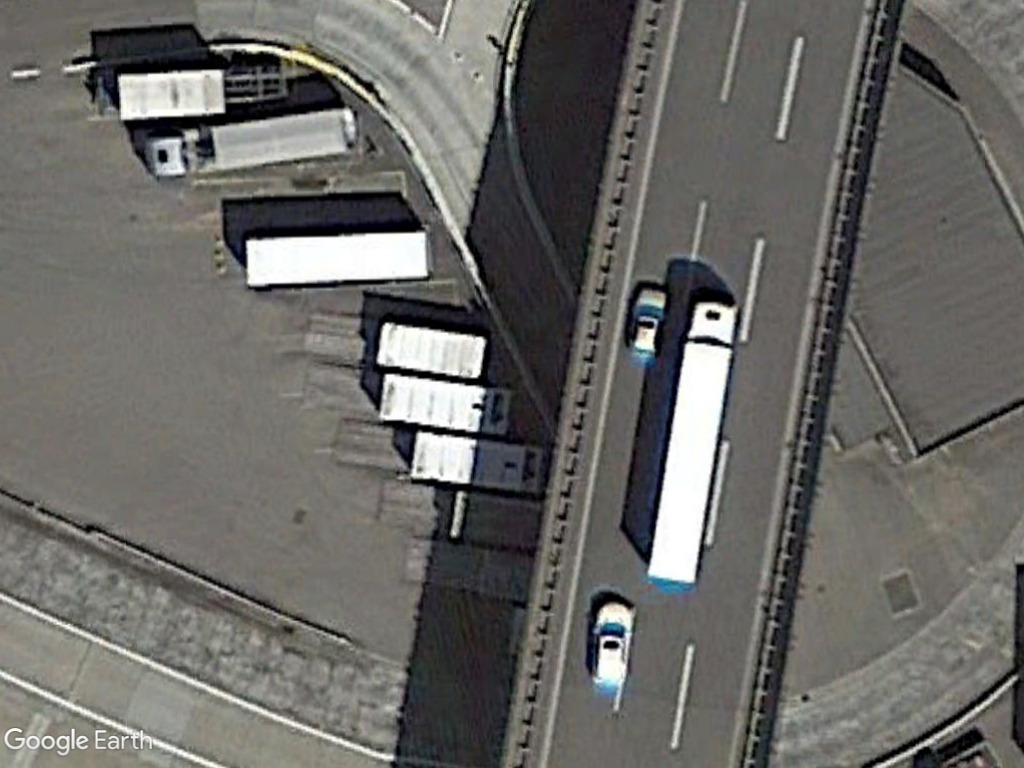car: (584, 597, 635, 690), (626, 285, 670, 360)
longvehicle: (643, 293, 745, 590), (238, 226, 437, 296)
truck: (138, 103, 361, 184)
